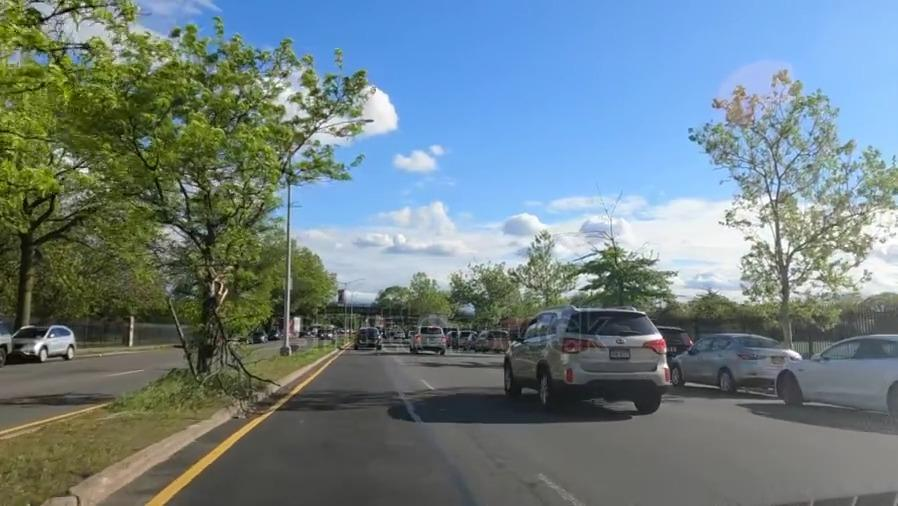car: (500, 313, 659, 400), (796, 337, 898, 411), (689, 327, 783, 402), (13, 327, 77, 361), (659, 320, 690, 354), (409, 326, 445, 354), (476, 327, 510, 353), (353, 325, 383, 349)
